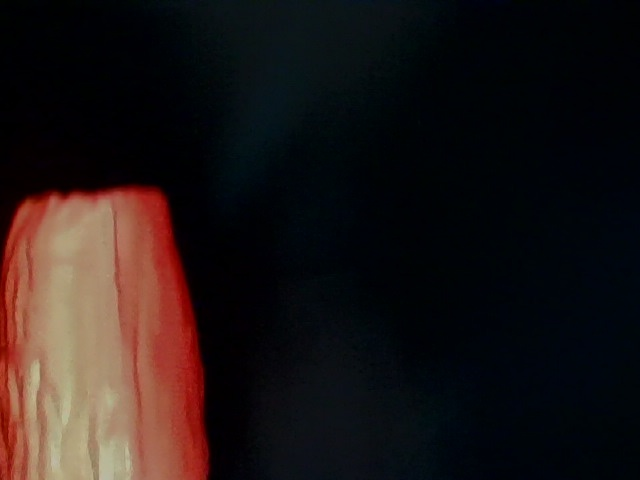CYLJ: (1, 176, 222, 480)
